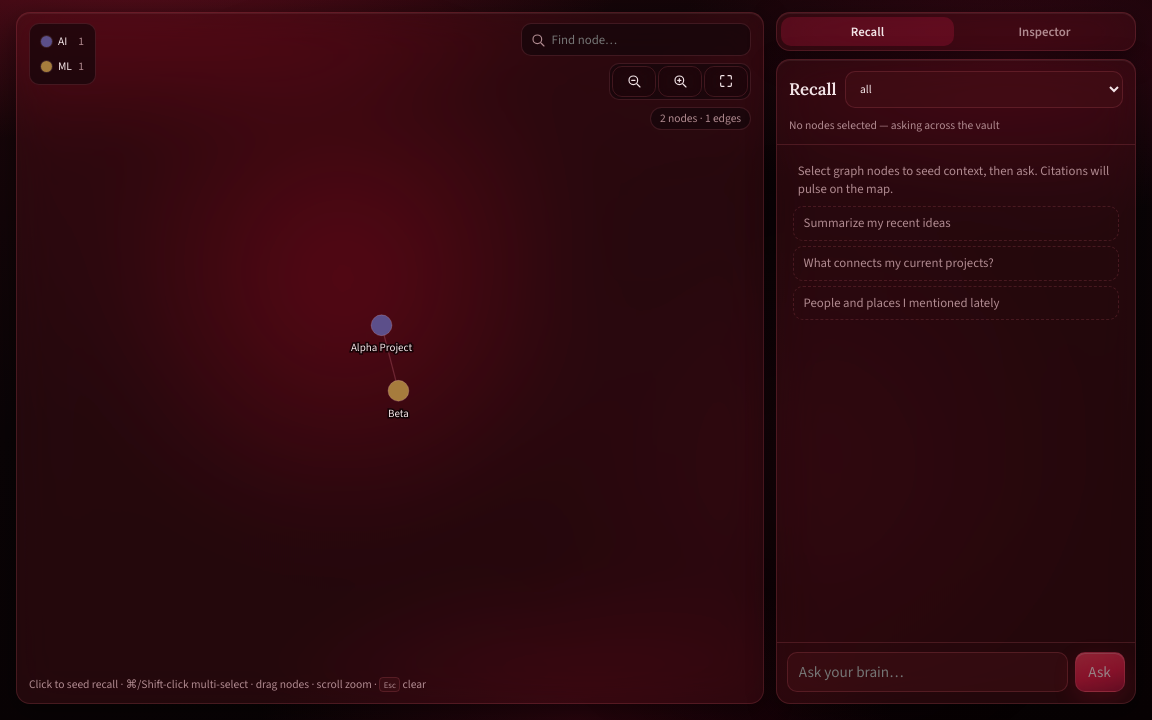
Test: BrainView › finds a node via search, selects it, jumps to Inspector, and Esc clears
This screenshot has width=1152, height=720.
Expected: the text "2 nodes · 1 edges" is shown, [650,106,751,130]
Step 1. Type "alpha" into the dropdown with placeholder "Find node…" → (648, 40), box [546,24,750,55]
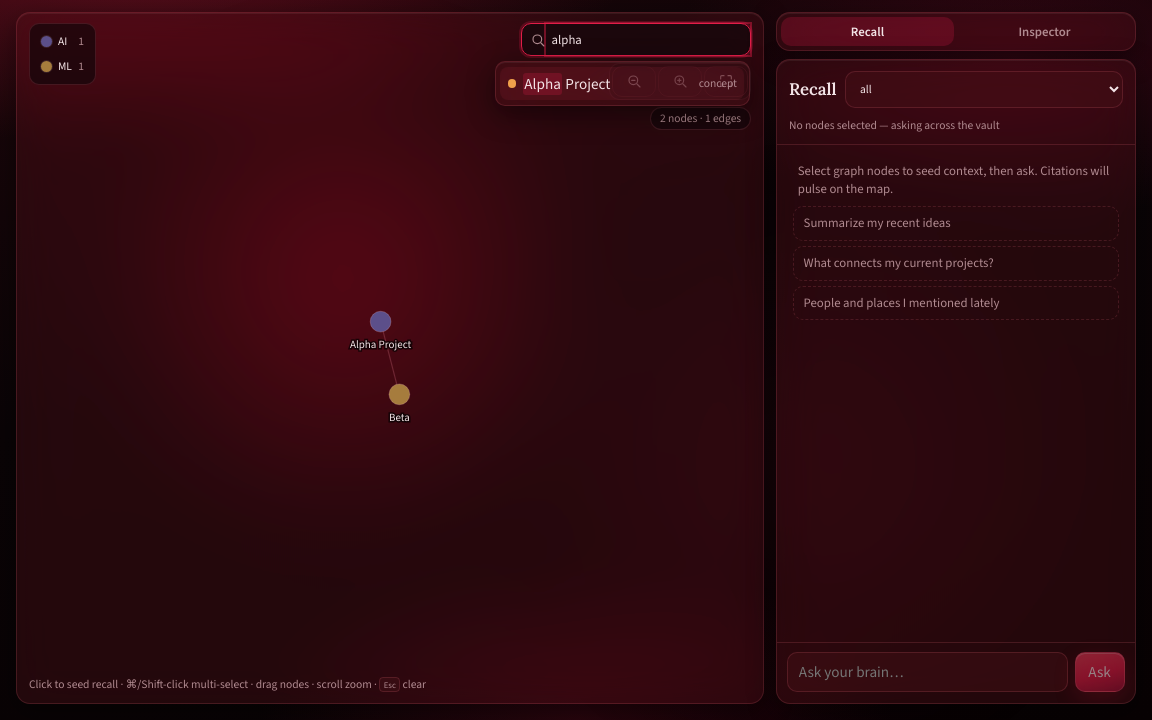
Step 2. Click the option "Alpha Project concept" → (622, 84), box [500,67,744,100]
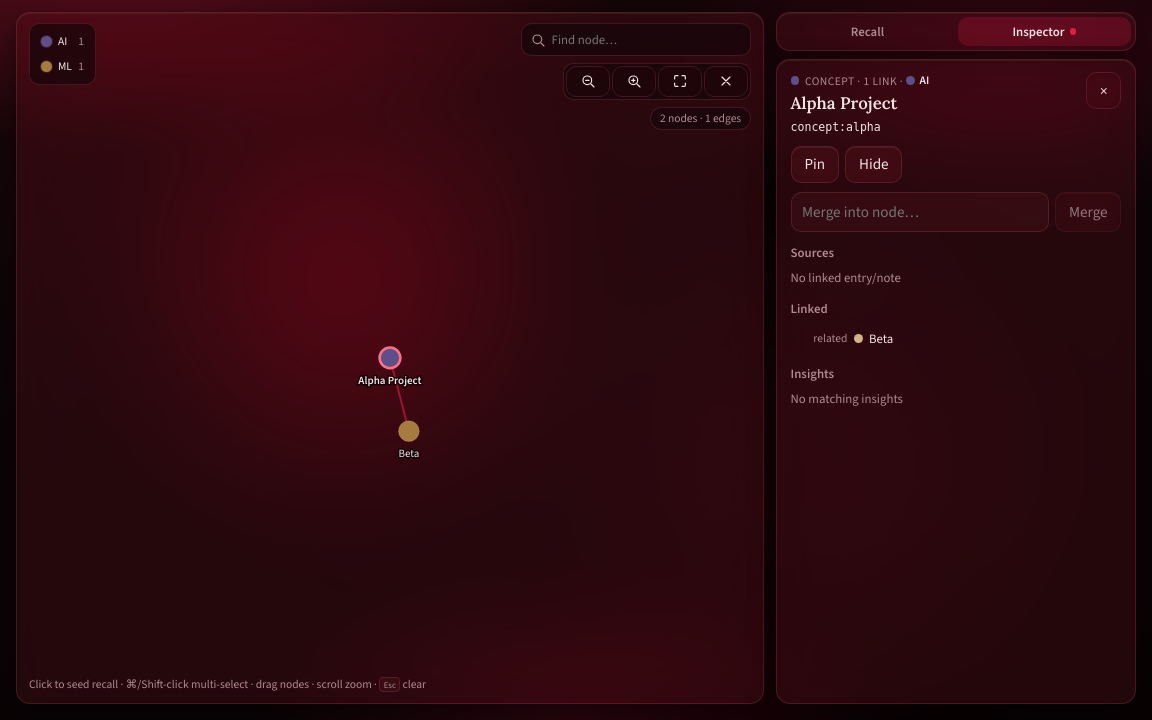
Expected: the heading "Alpha Project" is shown, [791,92,897,114]
Step 3. Press Escape
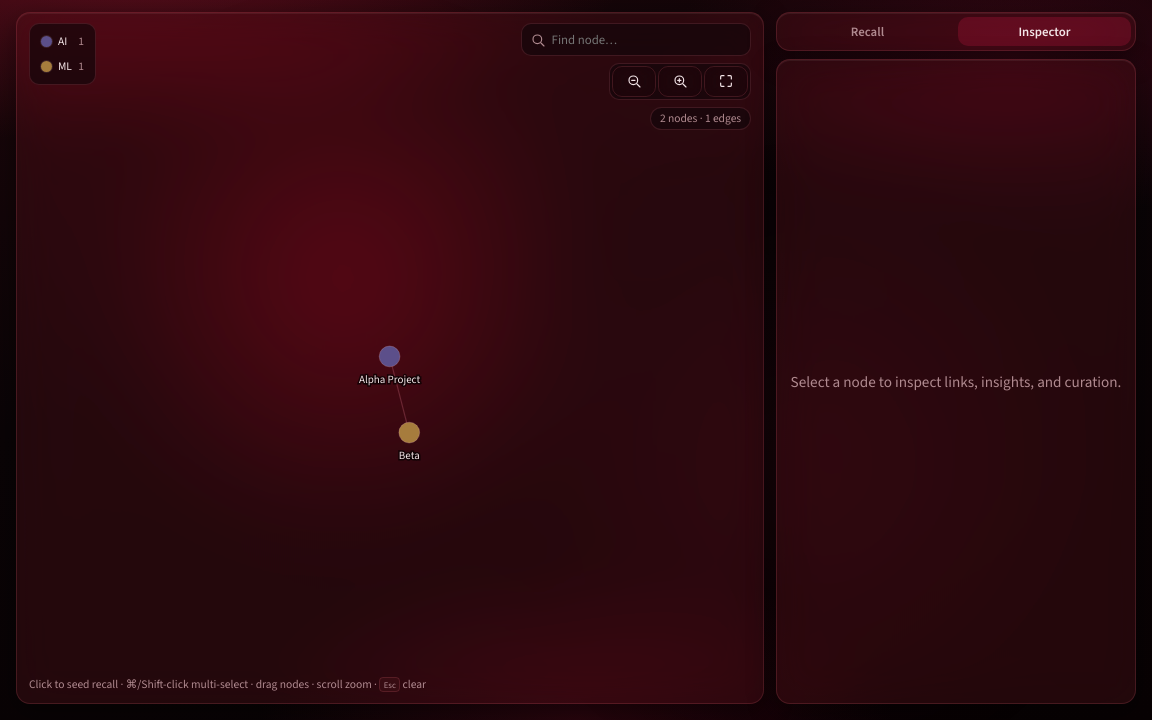
Expected: the text "Select a node to inspect links, insights, and curation." is shown, [791,371,1121,393]
